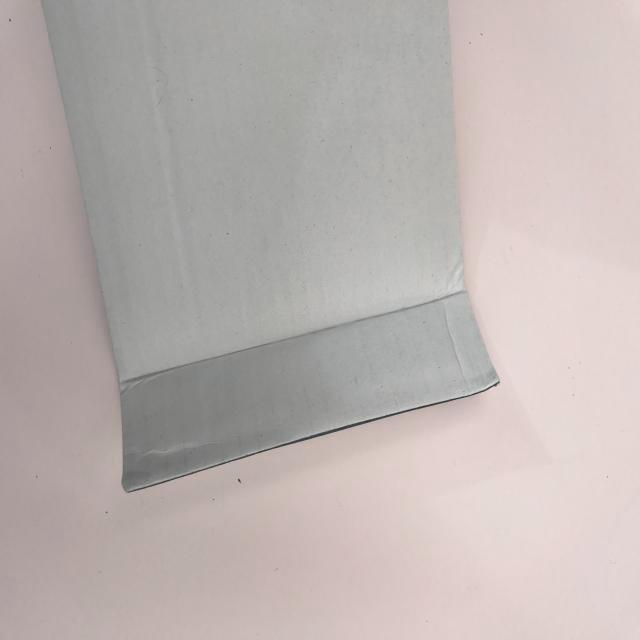cardboard: (9, 0, 516, 528)
